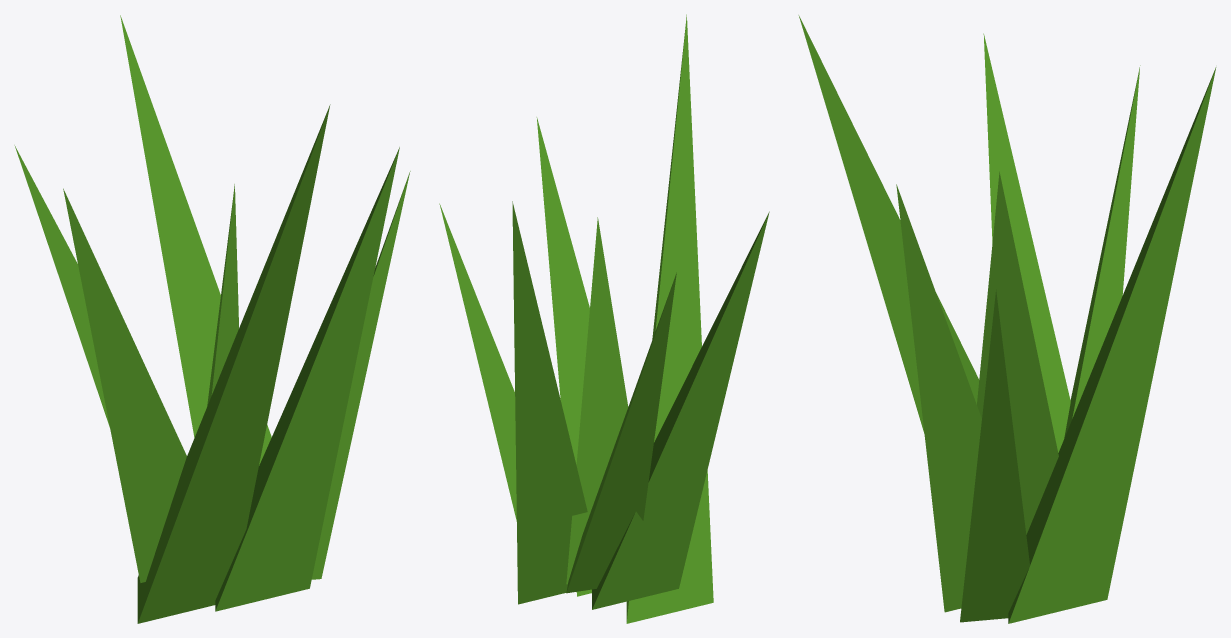
File: Grass01.fbx
3 renders of one model, left to right at view 1: azimuth 30°, elevation 25°; view 2: azimuth 150°, elevation 25°; view 3: azimuth 270°, elevation 25°, orthographic. The views are drawn at different scales.
Parts seen in each view (by area): view 1: Cone; view 2: Cone; view 3: Cone.
Part boxes in pixels (box(x1,y1,x2,y2)): Cone: box(14, 15, 410, 623); Cone: box(439, 14, 769, 623); Cone: box(798, 15, 1216, 623).
Bounding box in the file's own units: 75.75 × 113 × 74.21.
